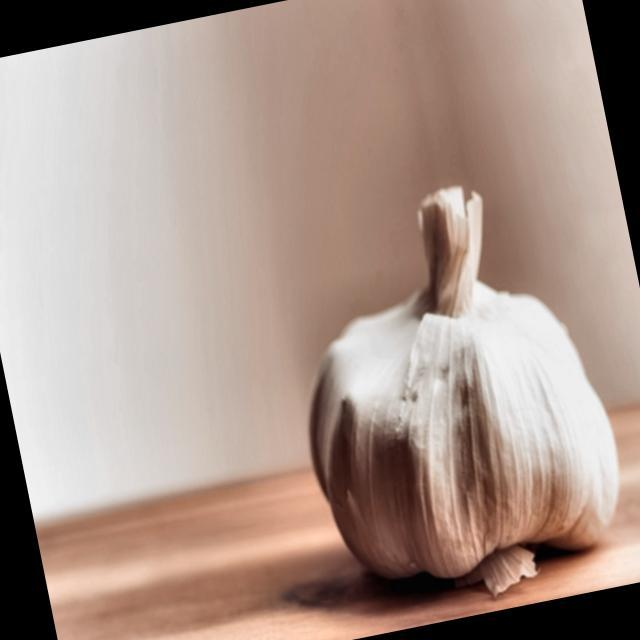garlic: (311, 188, 618, 594)
